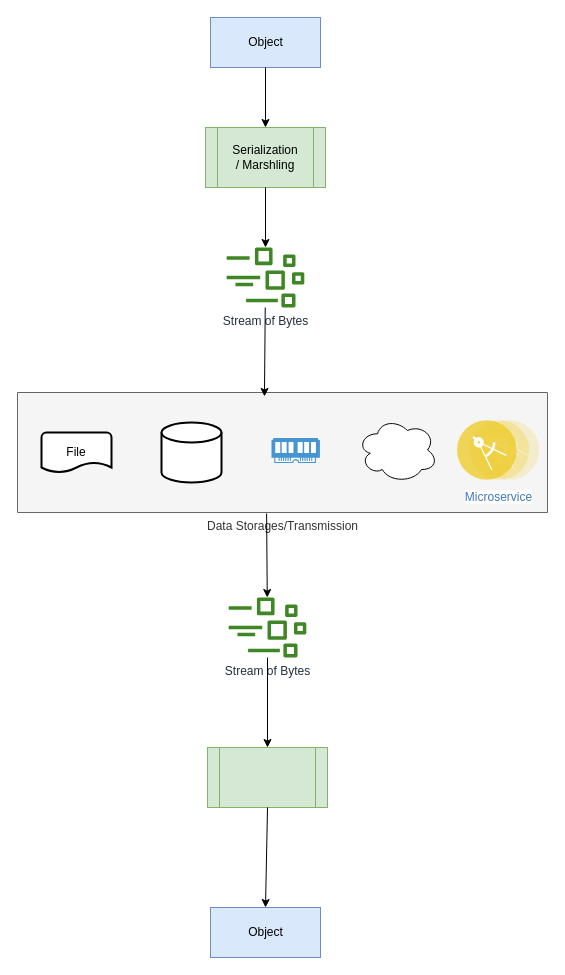
The diagram is 565 pixels wide and 975 high, and some of its shapes have lost their labels. The centre of each missing label's shape, as x and y in pixels:
"DB" belongs at pixel 191 452.
"De-serialization / Unmarshling" belongs at pixel 267 777.
"Memory" belongs at pixel 295 450.
"Network" belongs at pixel 397 449.
